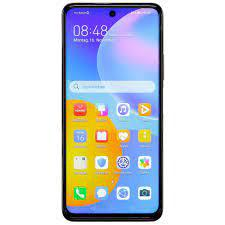Smartphone: (57, 0, 163, 222)
